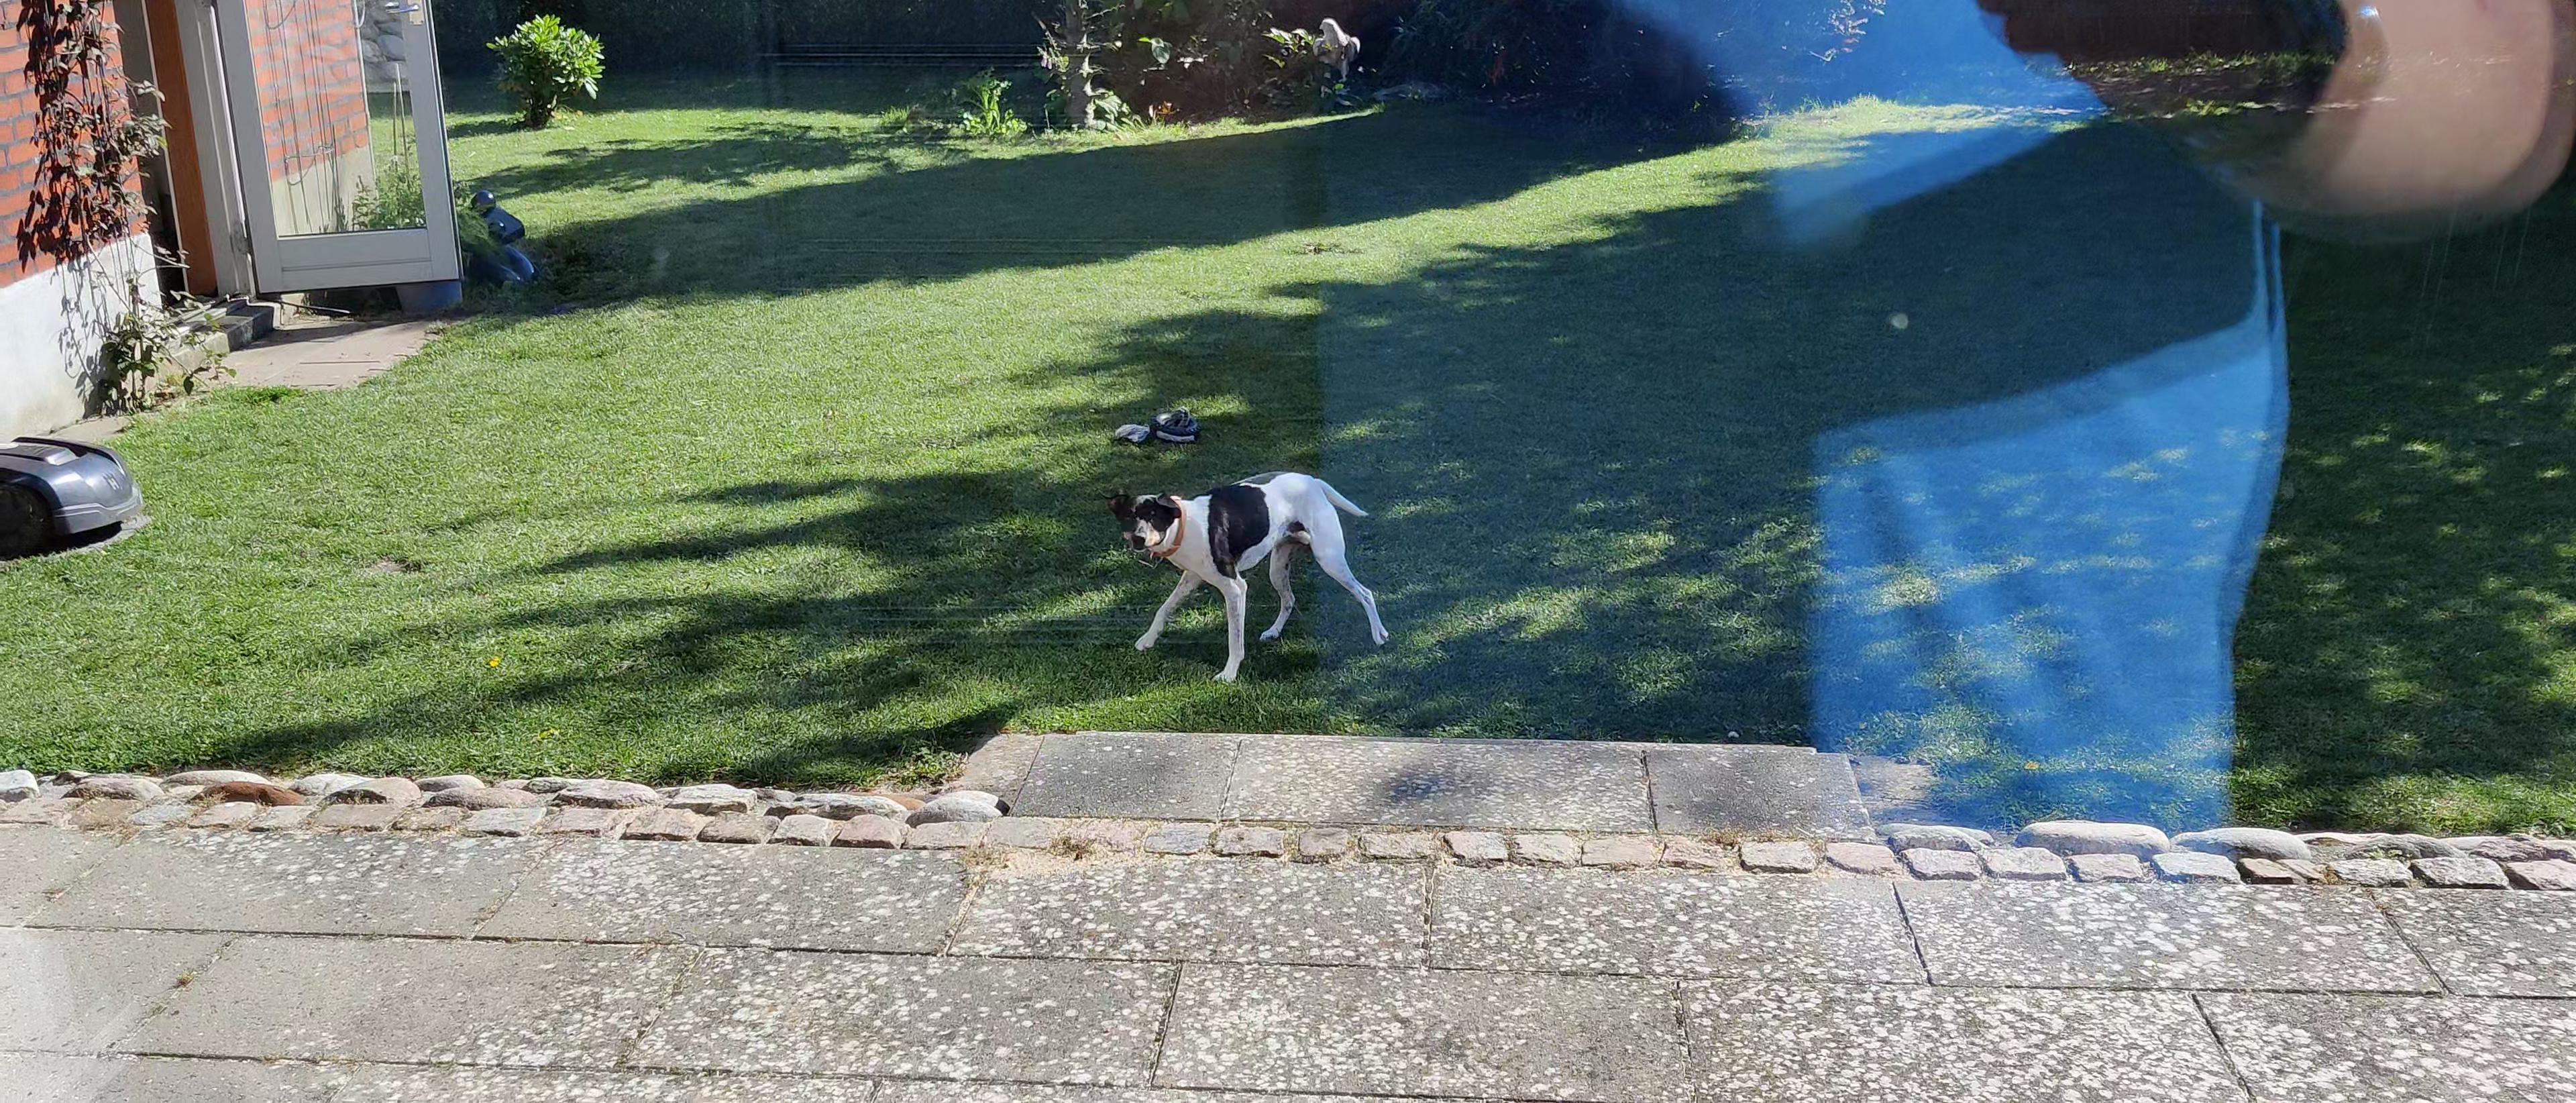Dog: (1101, 465, 1401, 685)
